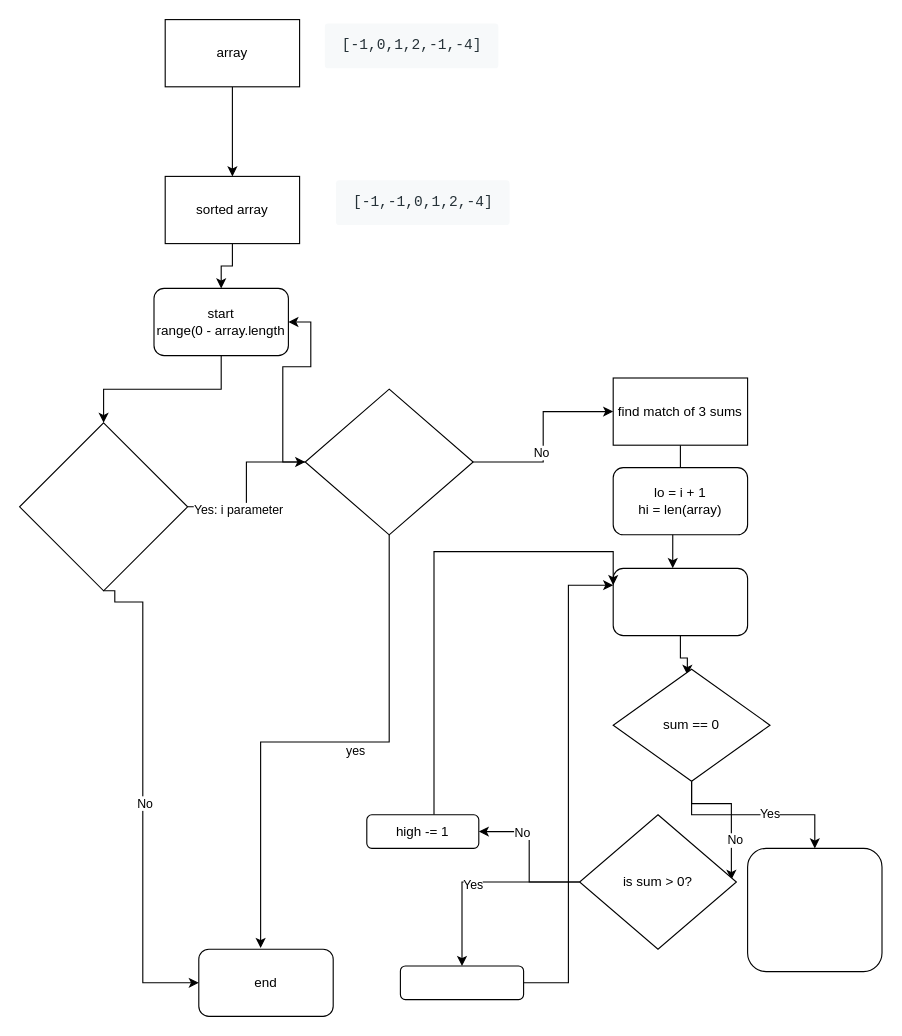
Some shapes in this 902 by 1036 pixel diagram are drawn without their labels. The shapes that lost their labels are listed below. From the top down, each one's centre as x and y in pixels, then its label:
At point 388,461: "if array[i] >0 not necessary, try to find sum == 0".
At point 103,506: "if i == 0 or array[i] <> array[i+1]".
At point 680,601: "while: lo < high sum a[i], a[lo], a[hi]".
At point 814,909: "lo += 1, high -= 1 while low < high and arr[lo] = arr[lo-1]: lo += 1".
At point 461,982: "low += 1".
